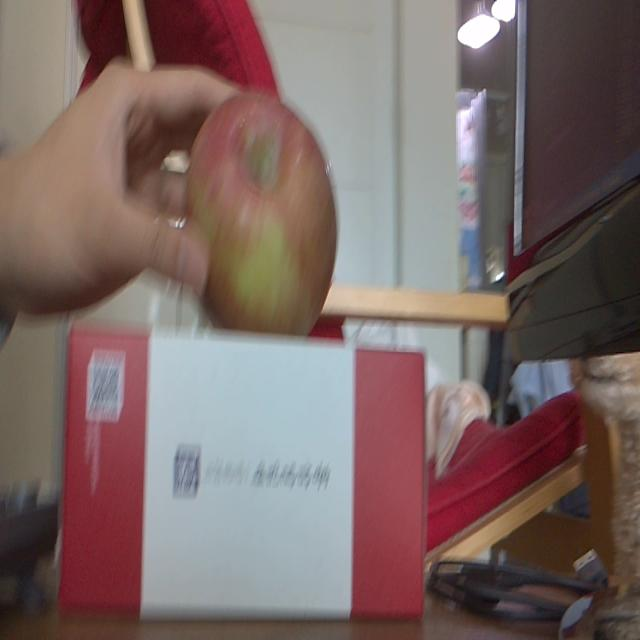apple: (182, 88, 344, 340)
